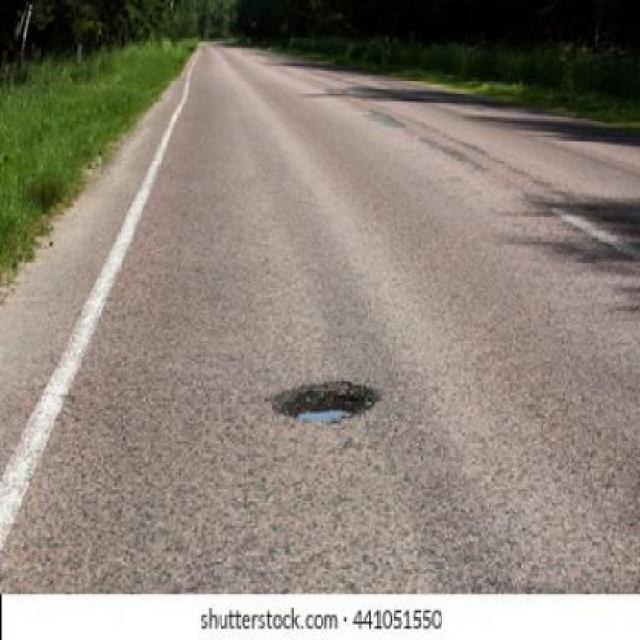Buraco: (273, 377, 382, 425)
